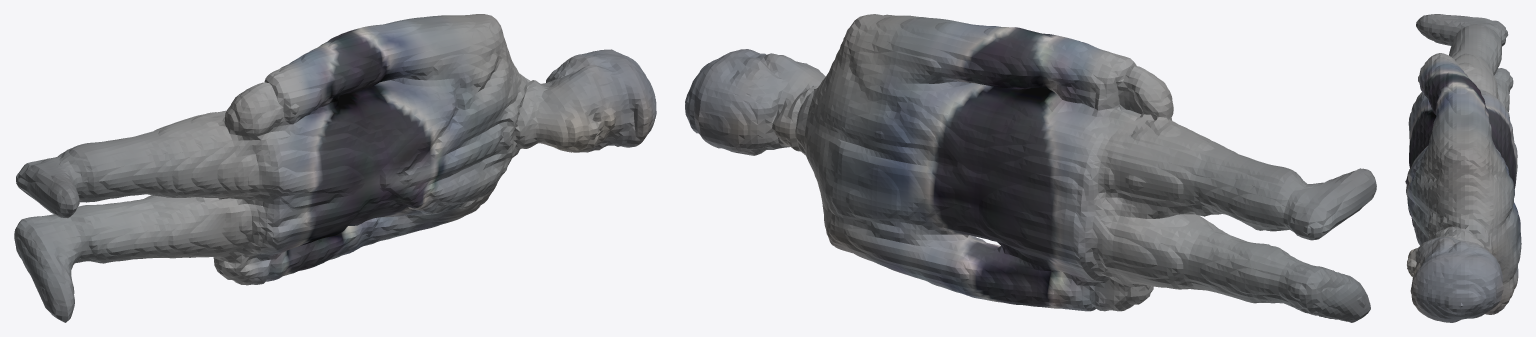
Rendered from hyunsik.glb.
3 renders of one model, left to right at view 1: azimuth 30°, elevation 25°; view 2: azimuth 150°, elevation 25°; view 3: azimuth 270°, elevation 25°, orthographic. The views are drawn at different scales.
Visible parts, largest first — view 1: world; view 2: world; view 3: world.
Part boxes in pixels (x1=…): world: x1=14, y1=14, x2=656, y2=322; world: x1=685, y1=14, x2=1376, y2=322; world: x1=1405, y1=14, x2=1521, y2=322.
Bounding box in the file's own units: 0.9523 × 0.3462 × 0.1923.
